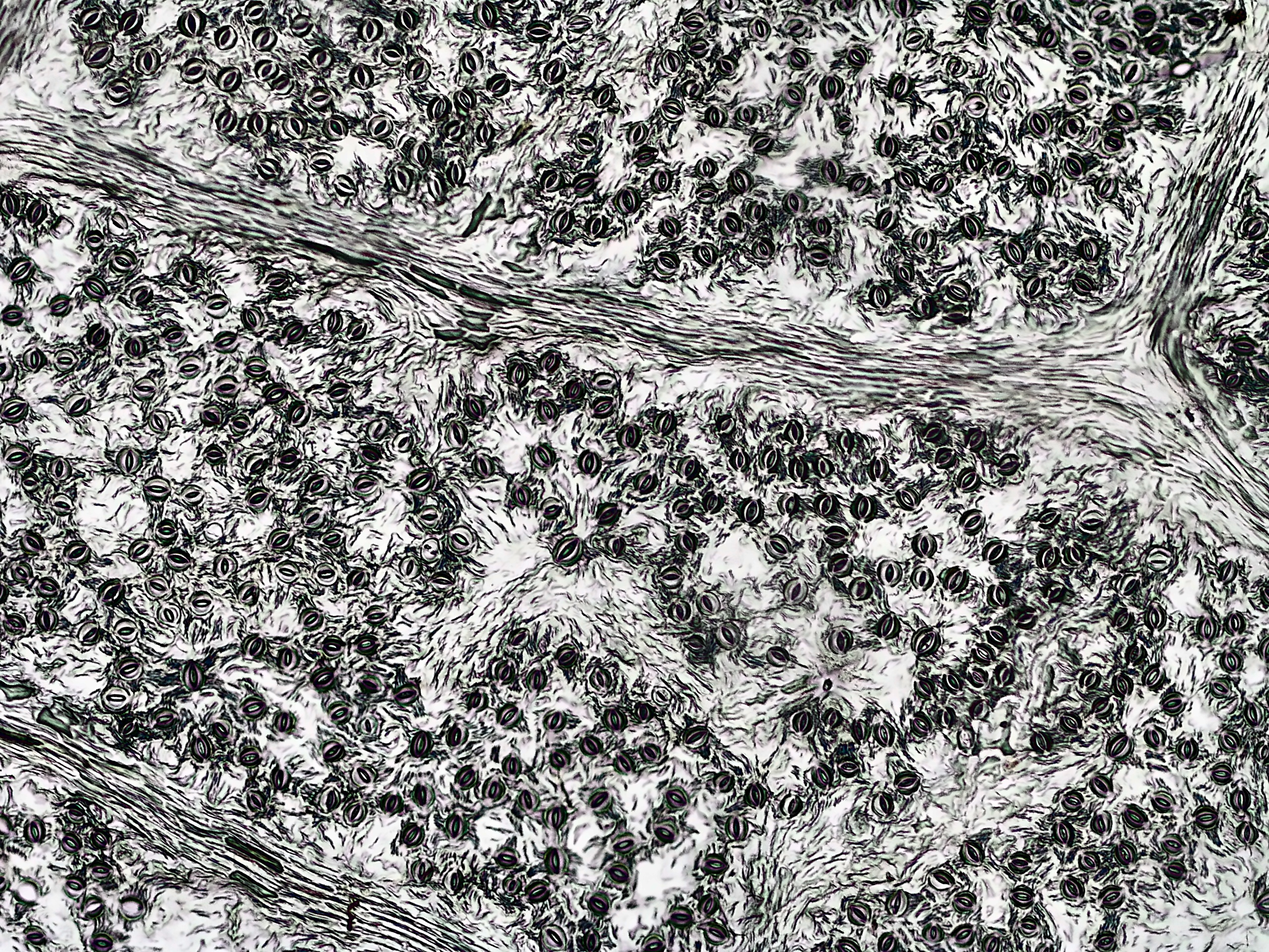stomata: (548, 534, 585, 571), (80, 40, 117, 70), (352, 14, 385, 46), (520, 18, 556, 47), (909, 626, 943, 656), (8, 257, 42, 287), (862, 281, 893, 313), (539, 56, 571, 87), (655, 562, 690, 590), (300, 85, 337, 111), (911, 223, 941, 255), (279, 109, 308, 141), (1075, 508, 1108, 536), (127, 377, 167, 400), (663, 599, 697, 626), (536, 923, 571, 949), (456, 46, 486, 76), (104, 209, 135, 238), (302, 149, 335, 176), (669, 496, 698, 526), (446, 526, 476, 555), (954, 214, 984, 243), (468, 0, 498, 29), (187, 733, 218, 761), (113, 446, 144, 474), (177, 7, 205, 38), (492, 703, 524, 730), (60, 538, 92, 565), (98, 686, 132, 711), (251, 154, 285, 179), (347, 61, 376, 90), (613, 186, 641, 216), (907, 293, 938, 320), (406, 467, 438, 493), (110, 248, 142, 274), (175, 57, 211, 80), (264, 529, 297, 554), (0, 444, 33, 469), (923, 173, 956, 198), (210, 550, 239, 578), (174, 260, 202, 289), (1142, 723, 1172, 750), (444, 419, 471, 449), (126, 537, 156, 564), (872, 205, 902, 232), (179, 660, 205, 691), (215, 66, 246, 92), (105, 77, 136, 103), (587, 663, 612, 695), (353, 672, 386, 696), (210, 374, 243, 398), (943, 567, 971, 595), (46, 456, 74, 484), (389, 165, 417, 193), (673, 454, 700, 483), (114, 655, 143, 682), (95, 579, 124, 606), (1093, 173, 1122, 200), (589, 81, 616, 110), (424, 94, 451, 123), (564, 13, 598, 36), (80, 275, 110, 301), (1025, 173, 1055, 199), (659, 98, 689, 124), (394, 6, 420, 36), (240, 0, 270, 26), (1142, 600, 1167, 631), (876, 611, 901, 642), (825, 553, 856, 578), (408, 729, 433, 760), (361, 604, 393, 628), (235, 696, 268, 719), (1145, 546, 1172, 574), (461, 393, 489, 420), (273, 559, 301, 586), (133, 46, 161, 73), (876, 560, 905, 586), (827, 628, 856, 654), (812, 492, 841, 518), (675, 531, 704, 557), (962, 93, 991, 119), (403, 57, 432, 83), (870, 719, 895, 749), (957, 508, 987, 533), (198, 442, 228, 467), (803, 245, 834, 269), (286, 14, 317, 38), (426, 571, 458, 594), (1225, 336, 1257, 359), (980, 536, 1007, 563), (444, 723, 471, 750), (550, 207, 577, 234), (1216, 728, 1244, 754), (1106, 733, 1134, 759), (1033, 506, 1061, 532), (782, 577, 808, 605), (1241, 213, 1269, 239), (72, 6, 105, 28), (717, 621, 742, 650), (13, 880, 42, 905), (900, 26, 929, 51), (910, 532, 940, 556), (763, 535, 793, 559), (319, 634, 349, 658), (679, 11, 709, 35), (680, 724, 711, 747), (591, 370, 622, 393), (889, 169, 920, 192), (986, 582, 1012, 609), (993, 451, 1019, 478), (866, 455, 892, 482), (241, 633, 267, 660), (235, 579, 262, 605), (1107, 29, 1134, 55), (322, 116, 349, 142), (251, 24, 278, 50), (1036, 544, 1061, 572), (953, 466, 981, 491), (851, 492, 876, 520), (774, 490, 802, 515), (571, 130, 599, 155), (270, 71, 298, 96), (1212, 560, 1240, 585), (111, 619, 140, 643), (17, 530, 46, 554), (79, 228, 108, 252), (1129, 3, 1158, 27), (697, 923, 730, 944), (905, 712, 935, 735), (943, 279, 973, 302), (745, 134, 779, 154), (616, 421, 642, 447), (128, 283, 154, 309), (1000, 240, 1026, 266), (893, 258, 919, 284), (819, 75, 845, 101), (870, 791, 895, 818), (1142, 662, 1167, 689), (409, 859, 434, 886), (411, 781, 436, 808), (48, 491, 73, 518), (21, 347, 48, 372), (0, 301, 27, 326), (818, 157, 843, 184), (928, 117, 955, 142), (1007, 0, 1032, 27), (630, 145, 657, 170), (1111, 670, 1135, 698), (846, 576, 870, 604), (348, 765, 380, 786), (318, 739, 346, 763), (240, 305, 264, 333), (887, 74, 911, 102), (716, 212, 744, 236), (843, 901, 872, 924), (8, 560, 37, 583), (1067, 42, 1096, 65), (307, 47, 336, 70), (215, 24, 238, 53), (1195, 612, 1217, 642), (186, 593, 216, 615), (261, 271, 291, 293), (142, 576, 172, 598), (0, 400, 30, 422), (883, 890, 908, 916), (1175, 738, 1201, 763), (931, 445, 957, 470), (552, 641, 578, 666), (534, 398, 559, 424), (355, 443, 381, 468), (287, 402, 312, 428), (166, 548, 192, 573), (584, 213, 609, 239), (332, 173, 358, 198), (453, 87, 478, 113), (1005, 849, 1032, 873), (529, 443, 556, 467), (317, 786, 341, 813), (294, 606, 321, 630), (178, 483, 205, 507), (1120, 60, 1147, 84), (1060, 154, 1087, 178), (1120, 805, 1148, 828), (1096, 885, 1124, 908), (1028, 728, 1051, 756), (765, 644, 793, 667), (299, 507, 327, 530), (279, 320, 307, 343), (1027, 109, 1050, 137), (958, 148, 981, 176), (743, 199, 766, 227), (650, 166, 673, 194), (366, 114, 394, 137), (960, 838, 982, 867), (725, 812, 747, 841), (196, 405, 225, 427), (142, 478, 171, 500), (1148, 791, 1178, 812), (591, 503, 621, 524), (201, 294, 231, 315), (1234, 820, 1259, 845), (726, 447, 751, 472), (653, 409, 678, 434), (417, 539, 442, 564), (875, 134, 900, 159), (894, 770, 920, 794), (695, 591, 721, 615), (778, 794, 804, 818), (241, 452, 267, 476), (65, 391, 89, 417), (1221, 366, 1245, 392), (783, 17, 809, 41), (726, 169, 752, 193), (537, 168, 563, 192), (485, 73, 511, 97), (949, 887, 976, 910), (583, 892, 610, 915), (25, 199, 48, 226), (993, 80, 1020, 103), (658, 49, 681, 76), (308, 668, 339, 688), (392, 683, 420, 705), (276, 646, 298, 674), (350, 474, 378, 496), (649, 821, 678, 842), (544, 847, 565, 876), (1060, 875, 1085, 899), (1124, 641, 1148, 666), (507, 483, 532, 507), (314, 563, 339, 587), (212, 330, 237, 354), (53, 348, 78, 372), (625, 120, 649, 145), (703, 104, 727, 129), (446, 157, 466, 187), (118, 8, 142, 33), (823, 525, 849, 548), (786, 455, 809, 481), (782, 419, 805, 445), (441, 868, 464, 894), (392, 430, 415, 456), (400, 554, 422, 581), (305, 475, 332, 497), (175, 356, 202, 378), (1038, 23, 1060, 50), (748, 16, 770, 43), (410, 141, 432, 168), (1052, 819, 1073, 847), (650, 686, 678, 707), (118, 897, 146, 918), (759, 444, 779, 473), (353, 634, 382, 654), (324, 383, 353, 403), (442, 812, 466, 836), (1035, 239, 1059, 263), (656, 249, 680, 273), (695, 156, 719, 180), (214, 108, 238, 132), (543, 804, 566, 829), (578, 450, 601, 475), (201, 522, 226, 545), (847, 173, 872, 196), (783, 81, 806, 106), (750, 236, 775, 259), (1193, 805, 1219, 827), (1229, 785, 1251, 811), (1115, 839, 1137, 865), (1040, 581, 1066, 603), (809, 762, 831, 788), (962, 428, 988, 450), (741, 498, 763, 524), (515, 787, 537, 813), (242, 488, 268, 510), (944, 55, 970, 77), (246, 108, 268, 134), (609, 835, 639, 854), (241, 357, 271, 376), (1159, 692, 1186, 713), (1066, 540, 1087, 567), (699, 854, 727, 874), (1168, 59, 1196, 79), (1109, 102, 1137, 122), (928, 867, 952, 890), (1015, 609, 1039, 632), (400, 823, 424, 846), (563, 377, 586, 401), (591, 396, 615, 419), (343, 802, 367, 825), (243, 789, 266, 813), (272, 711, 295, 735), (417, 505, 441, 528), (320, 309, 343, 333), (46, 295, 70, 318), (1023, 276, 1046, 300), (809, 214, 833, 237), (253, 57, 277, 80), (1118, 573, 1143, 595), (604, 533, 626, 558), (526, 667, 548, 692), (505, 360, 527, 385), (76, 621, 101, 643), (147, 410, 172, 432), (1099, 132, 1124, 154), (660, 215, 682, 240), (716, 56, 741, 78), (379, 45, 404, 67), (1059, 714, 1085, 735), (160, 325, 186, 346), (1143, 34, 1169, 55), (1064, 85, 1090, 106), (783, 190, 804, 216), (693, 244, 719, 265), (1059, 791, 1086, 811), (1007, 886, 1034, 906), (971, 642, 998, 662), (270, 764, 290, 791), (153, 520, 180, 540), (941, 305, 971, 323), (660, 788, 688, 807), (583, 789, 611, 808), (692, 185, 720, 204), (1089, 775, 1112, 798), (964, 665, 987, 688), (572, 172, 595, 195), (681, 78, 704, 101), (1224, 611, 1246, 635), (525, 880, 549, 902), (471, 453, 493, 477), (538, 496, 562, 518), (365, 417, 387, 441), (822, 706, 843, 731), (920, 422, 945, 443), (896, 488, 921, 509), (87, 323, 108, 348), (442, 121, 467, 142), (835, 760, 864, 778), (994, 661, 1014, 687), (2, 613, 28, 633), (475, 120, 495, 146), (87, 933, 114, 952), (318, 528, 345, 547), (1183, 14, 1210, 33), (1089, 4, 1116, 23), (687, 39, 714, 58), (1079, 668, 1101, 691), (743, 783, 766, 805), (507, 627, 530, 649), (634, 470, 657, 492), (62, 875, 85, 897), (968, 2, 990, 25), (1088, 813, 1112, 834), (482, 776, 503, 800), (1070, 274, 1094, 295), (943, 670, 963, 695), (539, 348, 559, 373), (665, 906, 691, 925), (426, 176, 445, 202), (968, 699, 990, 721), (836, 430, 858, 452), (117, 717, 139, 739), (1018, 915, 1039, 938), (914, 676, 935, 699), (910, 567, 933, 588), (701, 491, 722, 514), (603, 708, 626, 729), (59, 832, 82, 853), (277, 449, 300, 470), (736, 104, 759, 125), (646, 525, 669, 546), (611, 753, 635, 773), (501, 752, 521, 776), (359, 714, 379, 738), (1061, 116, 1085, 136), (1080, 237, 1100, 261), (36, 577, 61, 596), (263, 385, 289, 403), (0, 192, 18, 218), (1211, 762, 1232, 784), (1209, 678, 1231, 699), (1216, 692, 1237, 714), (1221, 650, 1242, 672), (1093, 696, 1114, 718), (792, 711, 813, 733), (813, 456, 834, 478), (715, 414, 737, 435), (465, 690, 487, 711), (381, 791, 402, 813), (36, 608, 57, 630), (124, 336, 146, 357), (952, 924, 975, 944), (1246, 700, 1266, 723), (986, 626, 1009, 646), (849, 718, 869, 741), (24, 820, 44, 843), (152, 708, 175, 728), (1159, 833, 1183, 852), (548, 750, 572, 769), (454, 768, 478, 787), (833, 116, 857, 135), (1077, 851, 1102, 869), (1152, 112, 1177, 130), (680, 636, 706, 653), (922, 924, 943, 945), (578, 736, 600, 756), (24, 925, 46, 945), (238, 747, 260, 767), (348, 568, 368, 590), (990, 157, 1010, 179), (845, 46, 867, 66), (158, 603, 177, 626), (890, 0, 919, 15), (87, 830, 111, 848), (326, 704, 350, 722), (876, 932, 897, 952), (82, 895, 103, 915), (19, 472, 40, 492), (640, 741, 662, 760), (501, 875, 523, 894), (582, 928, 600, 951), (496, 849, 519, 867), (495, 661, 513, 684), (712, 773, 736, 790), (786, 50, 810, 67), (347, 320, 367, 340), (981, 933, 1002, 952), (636, 703, 655, 724), (210, 719, 232, 737), (1095, 935, 1119, 951), (641, 935, 665, 951), (1112, 610, 1132, 629), (65, 804, 85, 823), (1163, 860, 1184, 878), (228, 414, 249, 432), (957, 728, 974, 750), (607, 865, 630, 881), (87, 864, 113, 878), (546, 710, 564, 730), (698, 893, 715, 914), (1254, 740, 1269, 763), (937, 707, 953, 728), (833, 940, 859, 952), (301, 648, 320, 662)
